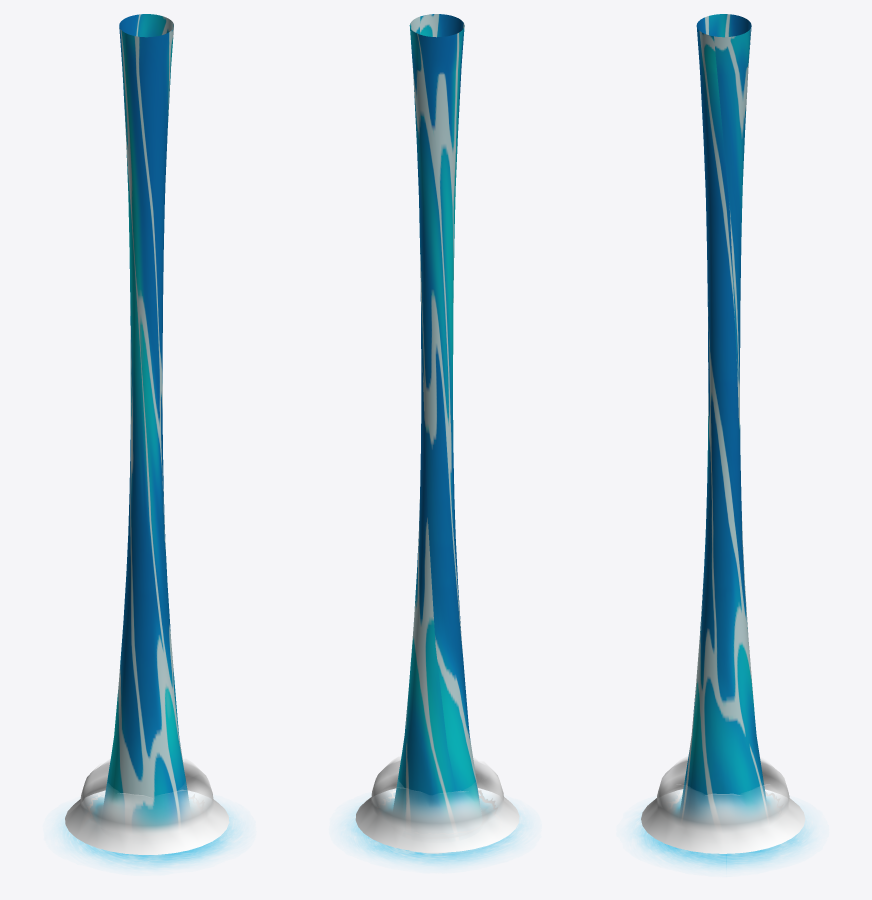
The model's file is WaterSpout_FINAL_GLTF.gltf.
3 views of the same model, side by side, from view 1: azimuth 30°, elevation 25°; view 2: azimuth 150°, elevation 25°; view 3: azimuth 270°, elevation 25° (orthographic).
Visible parts, largest first — view 1: Cyl_Vertical_Mesh, Explosion_Mesh, Circle_B_Mesh; view 2: Cyl_Vertical_Mesh, Explosion_Mesh, Circle_B_Mesh; view 3: Cyl_Vertical_Mesh, Explosion_Mesh, Circle_B_Mesh.
Part boxes in pixels (x1,y1,x2,y2): Cyl_Vertical_Mesh: (103, 14, 189, 828); Explosion_Mesh: (65, 759, 229, 854); Circle_B_Mesh: (61, 811, 239, 867); Cyl_Vertical_Mesh: (393, 14, 480, 821); Explosion_Mesh: (355, 756, 519, 852); Circle_B_Mesh: (346, 809, 523, 865); Cyl_Vertical_Mesh: (679, 14, 767, 822); Explosion_Mesh: (641, 756, 805, 853); Circle_B_Mesh: (635, 816, 809, 869).
Bounding box in the file's own units: 5.04 × 16.8 × 4.96.
Materials: 5 (5 with a texture image).
